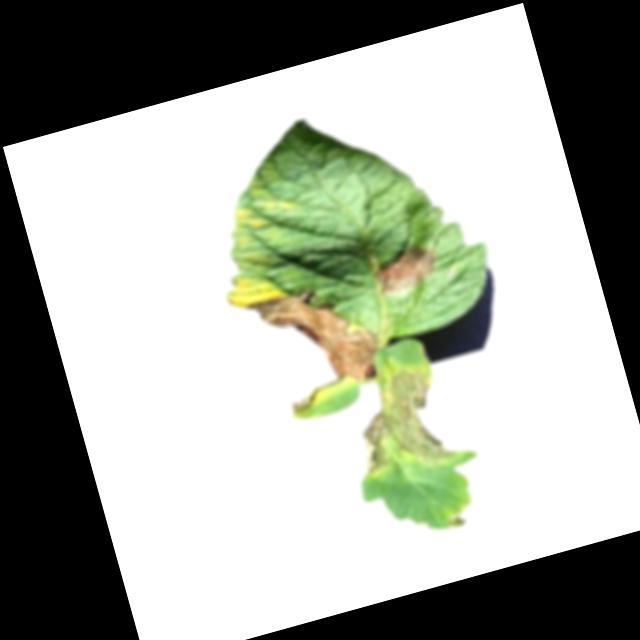Late_blight: (248, 267, 386, 405), (340, 356, 462, 487), (370, 242, 442, 300), (288, 383, 328, 414), (442, 505, 471, 530)
